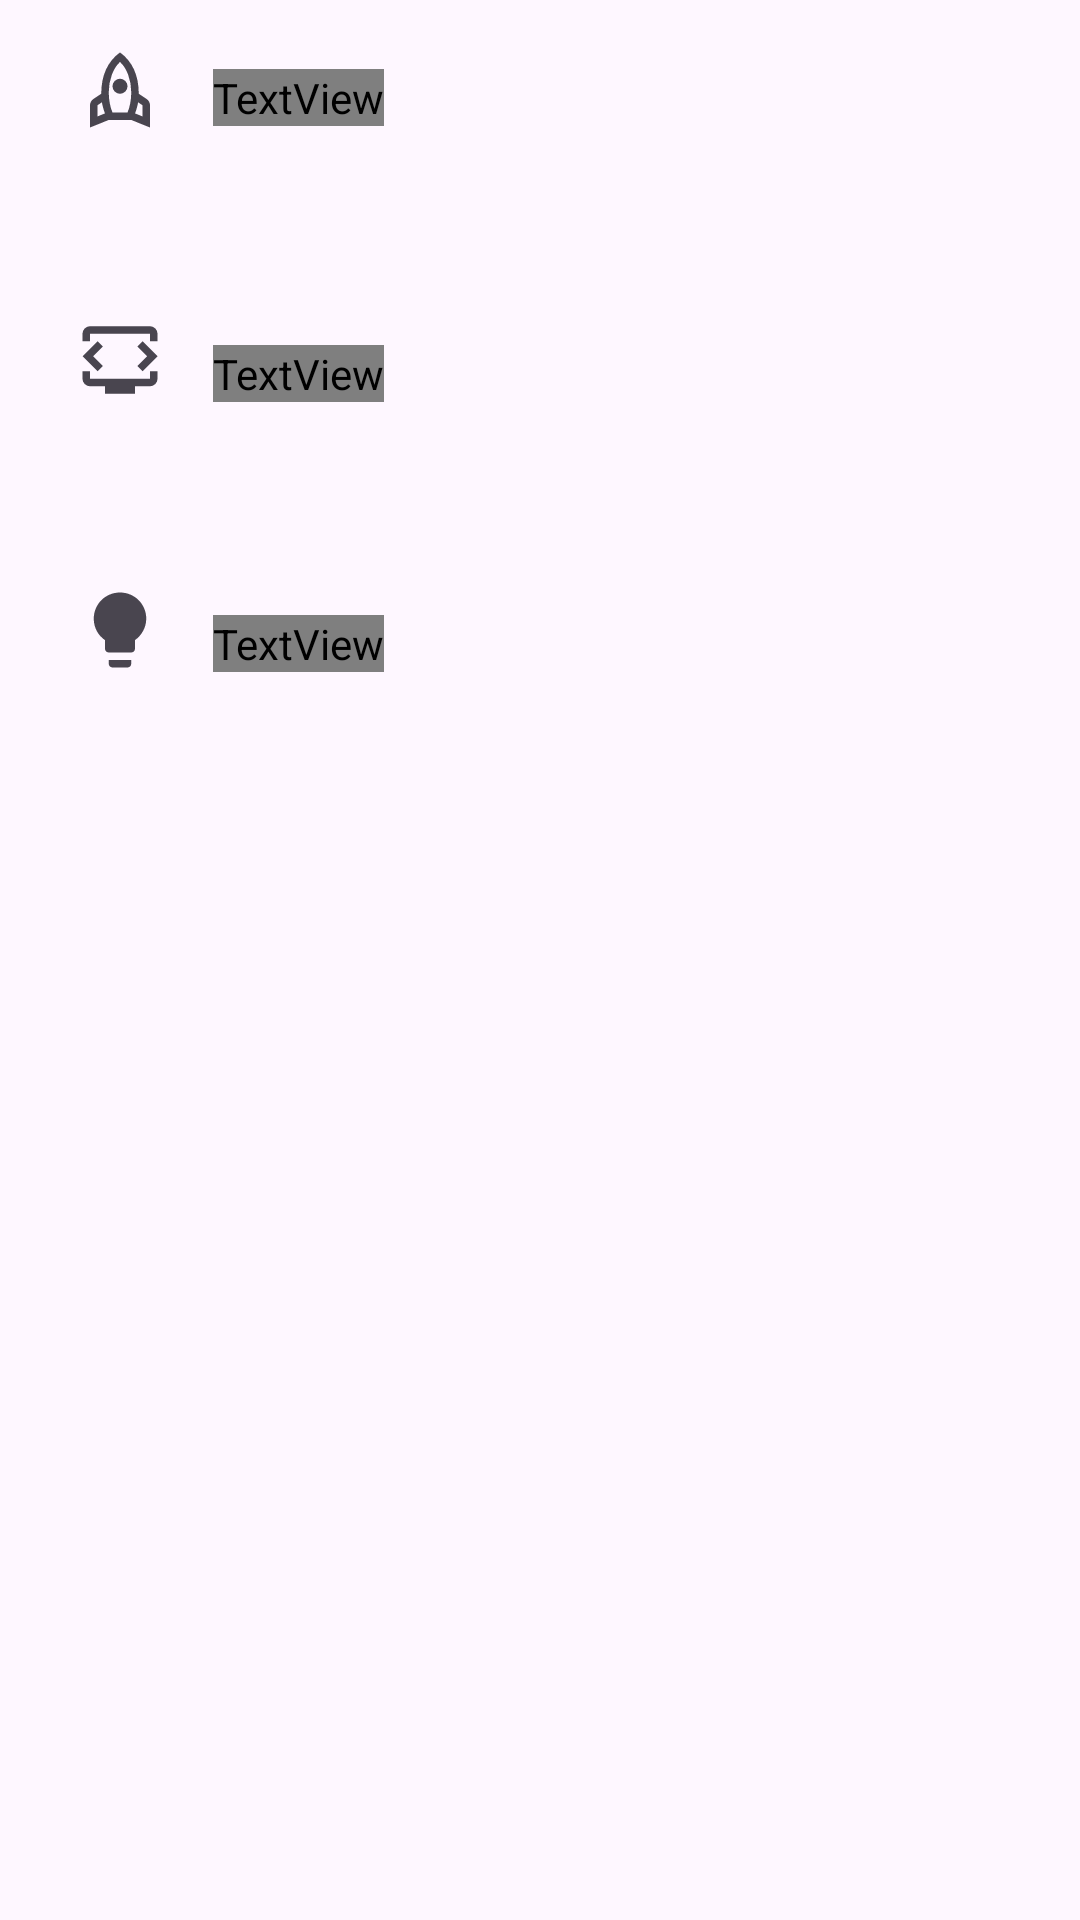

Locate icon controls on the screen. Image size 1080px x 1920px, boxes as (x1, y1, x2, y2).
dev mode: (82, 326, 158, 394)
rockets: (90, 52, 150, 128)
